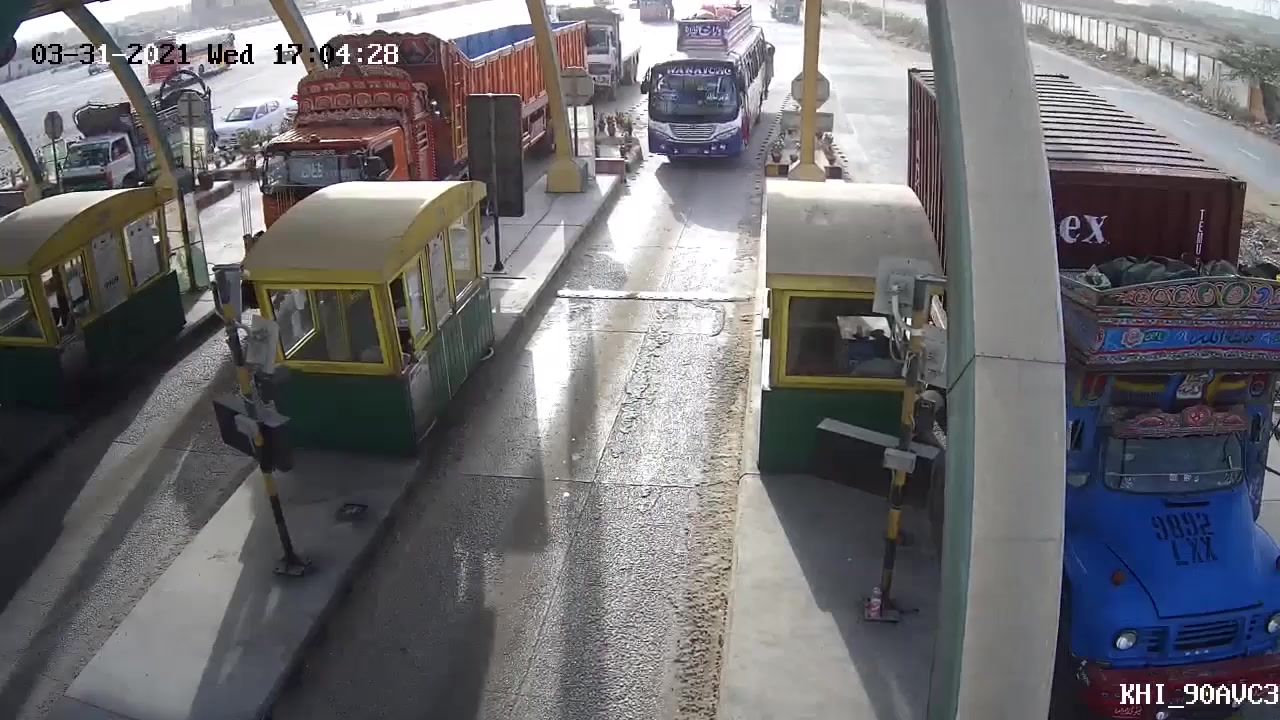F4: (624, 9, 776, 179)
